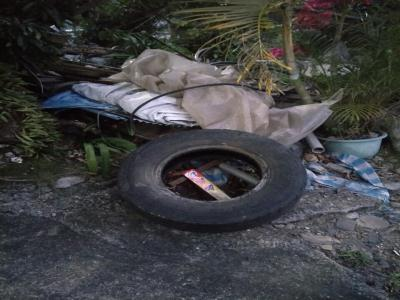plastic_bag: (118, 55, 248, 125)
tire: (113, 127, 311, 231)
